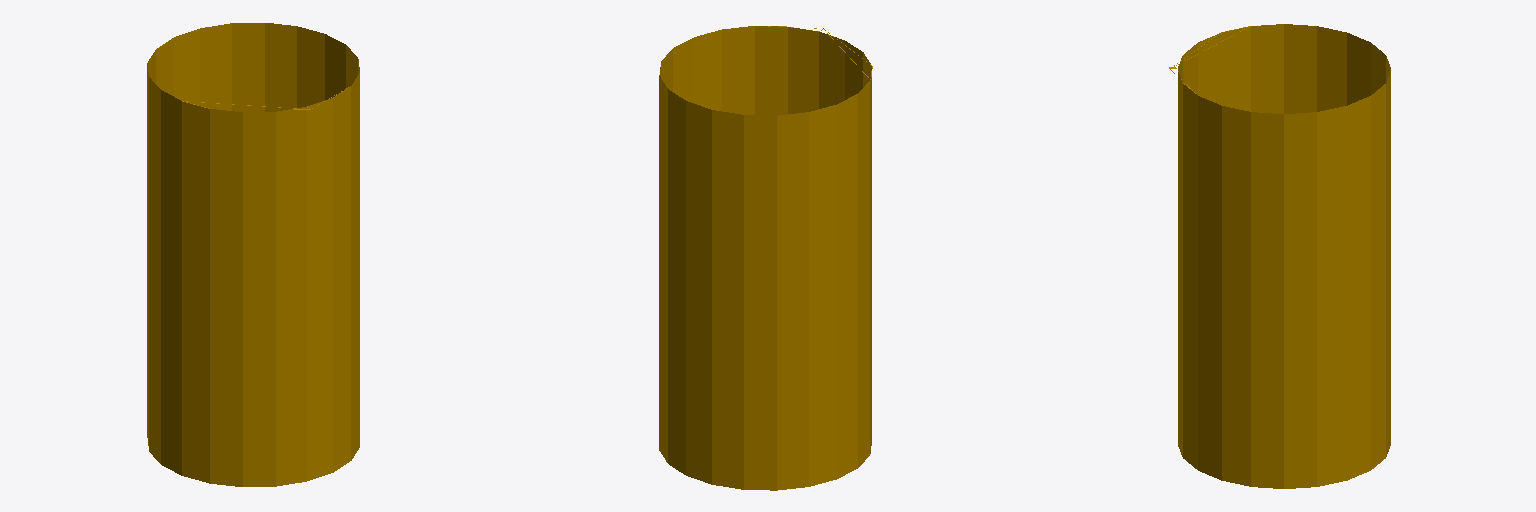
The picture shows the model from 3 angles: view 1: azimuth 30°, elevation 25°; view 2: azimuth 150°, elevation 25°; view 3: azimuth 270°, elevation 25°; orthographic projection.
Parts seen in each view (by area): view 1: pCylinder1; view 2: pCylinder1; view 3: pCylinder1.
Part boxes in pixels (x1,y1,x2,y2): pCylinder1: (147, 23, 359, 486); pCylinder1: (659, 26, 872, 490); pCylinder1: (1169, 24, 1390, 488).
Size of the model in its own units: 1.33 by 2.59 by 1.39.
Materials: 1 (1 with a texture image).